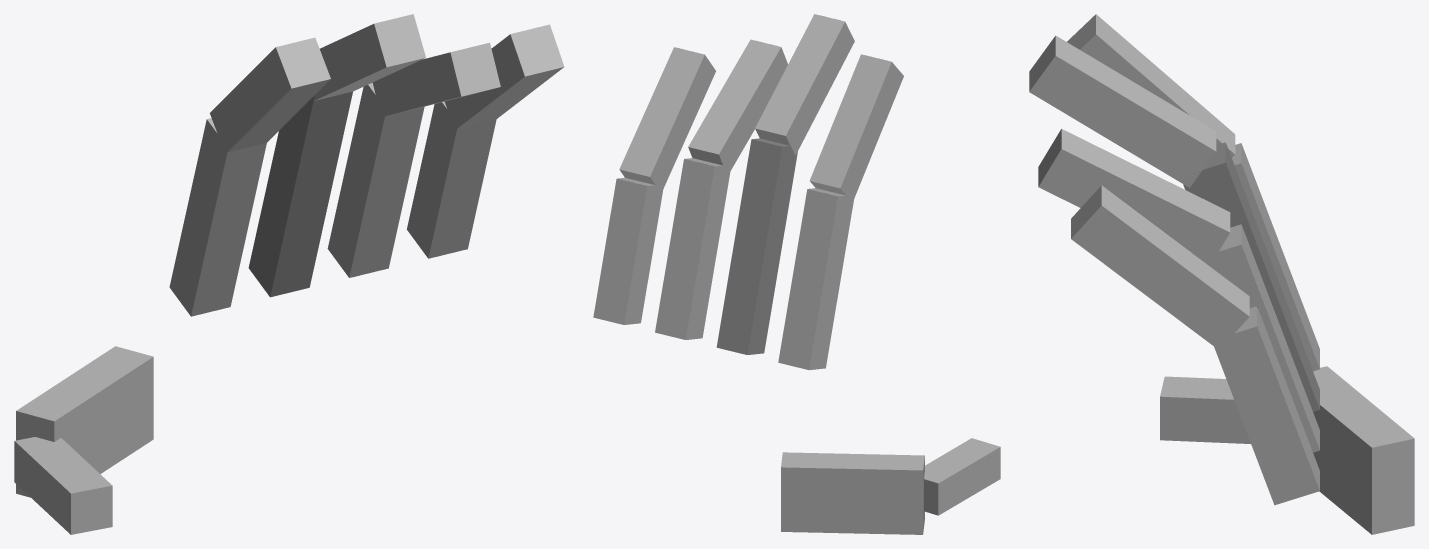
File: powerfist_fingers_firing_left.obj
3 renders of one model, left to right at view 1: azimuth 30°, elevation 25°; view 2: azimuth 150°, elevation 25°; view 3: azimuth 270°, elevation 25°, orthographic. The views are drawn at different scales.
Parts seen in each view (by area): view 1: middlefinger1, thumb1, index1, ringfinger1, pinky1, index2, thumb2, pinky2, ringfinger2, middlefinger2; view 2: thumb1, middlefinger1, ringfinger1, index1, pinky1, index2, pinky2, middlefinger2, ringfinger2, thumb2; view 3: middlefinger2, pinky2, thumb1, pinky1, ringfinger2, middlefinger1, thumb2, index2, ringfinger1, index1.
Part boxes in pixels (x1=…): middlefinger1: x1=248, y1=91, x2=352, y2=297; thumb1: x1=16, y1=346, x2=153, y2=497; index1: x1=169, y1=118, x2=266, y2=316; ringfinger1: x1=327, y1=82, x2=424, y2=277; pinky1: x1=407, y1=101, x2=496, y2=258; index2: x1=210, y1=37, x2=330, y2=153; thumb2: x1=14, y1=437, x2=112, y2=534; pinky2: x1=444, y1=24, x2=564, y2=130; ringfinger2: x1=372, y1=42, x2=500, y2=116; middlefinger2: x1=313, y1=14, x2=425, y2=100; thumb1: x1=781, y1=452, x2=924, y2=534; middlefinger1: x1=716, y1=138, x2=797, y2=354; ringfinger1: x1=655, y1=158, x2=731, y2=339; index1: x1=778, y1=188, x2=853, y2=370; pinky1: x1=593, y1=177, x2=663, y2=324; index2: x1=809, y1=54, x2=903, y2=202; pinky2: x1=619, y1=47, x2=715, y2=192; middlefinger2: x1=755, y1=14, x2=854, y2=155; ringfinger2: x1=688, y1=39, x2=787, y2=170; thumb2: x1=924, y1=438, x2=1000, y2=515; middlefinger2: x1=1029, y1=35, x2=1216, y2=187; pinky2: x1=1071, y1=185, x2=1249, y2=349; thumb1: x1=1313, y1=366, x2=1414, y2=534; pinky1: x1=1212, y1=306, x2=1319, y2=505; ringfinger2: x1=1038, y1=129, x2=1230, y2=265; middlefinger1: x1=1183, y1=142, x2=1319, y2=411; thumb2: x1=1160, y1=376, x2=1250, y2=443; index2: x1=1067, y1=14, x2=1235, y2=157; ringfinger1: x1=1199, y1=224, x2=1319, y2=452; index1: x1=1232, y1=143, x2=1319, y2=371.
Bounding box in the file's own units: 0.7097 × 0.7681 × 0.5012.
